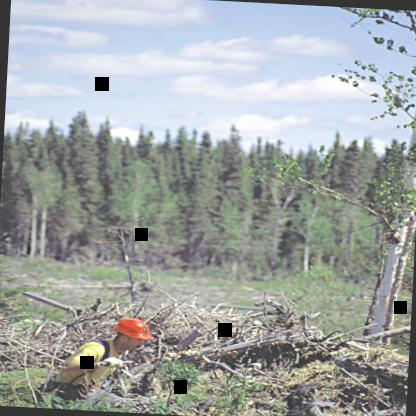helmet: (110, 315, 154, 353)
